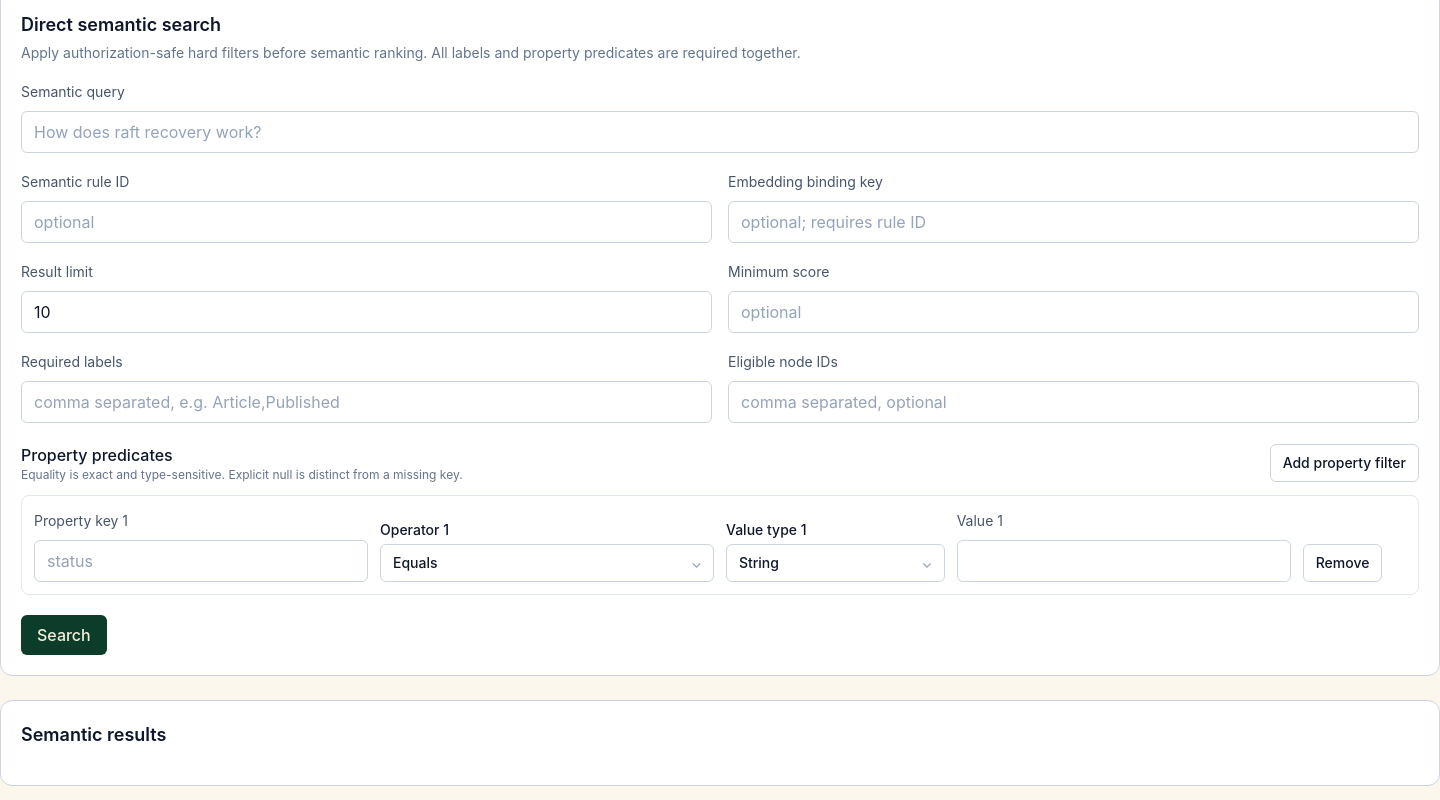
it: keeps results usable when provenance is absent
The width and height of the screenshot is (1440, 800).
Type "raft recovery" into the field labelled "Semantic query". click: (720,132)
box: left=21, top=111, right=1419, bottom=153
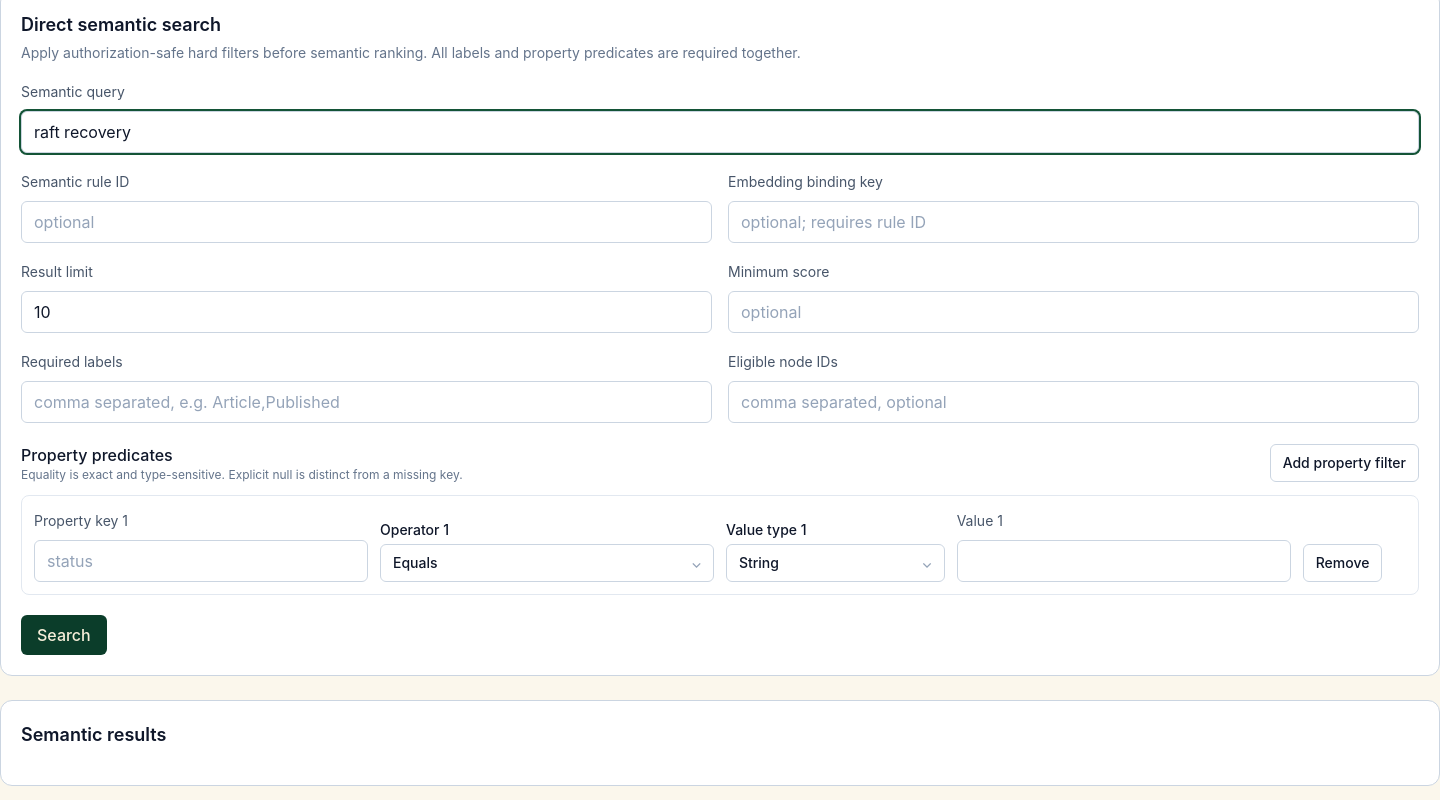
Click the button "Search". click: (64,635)
box: left=21, top=615, right=107, bottom=655
(page scrolled)
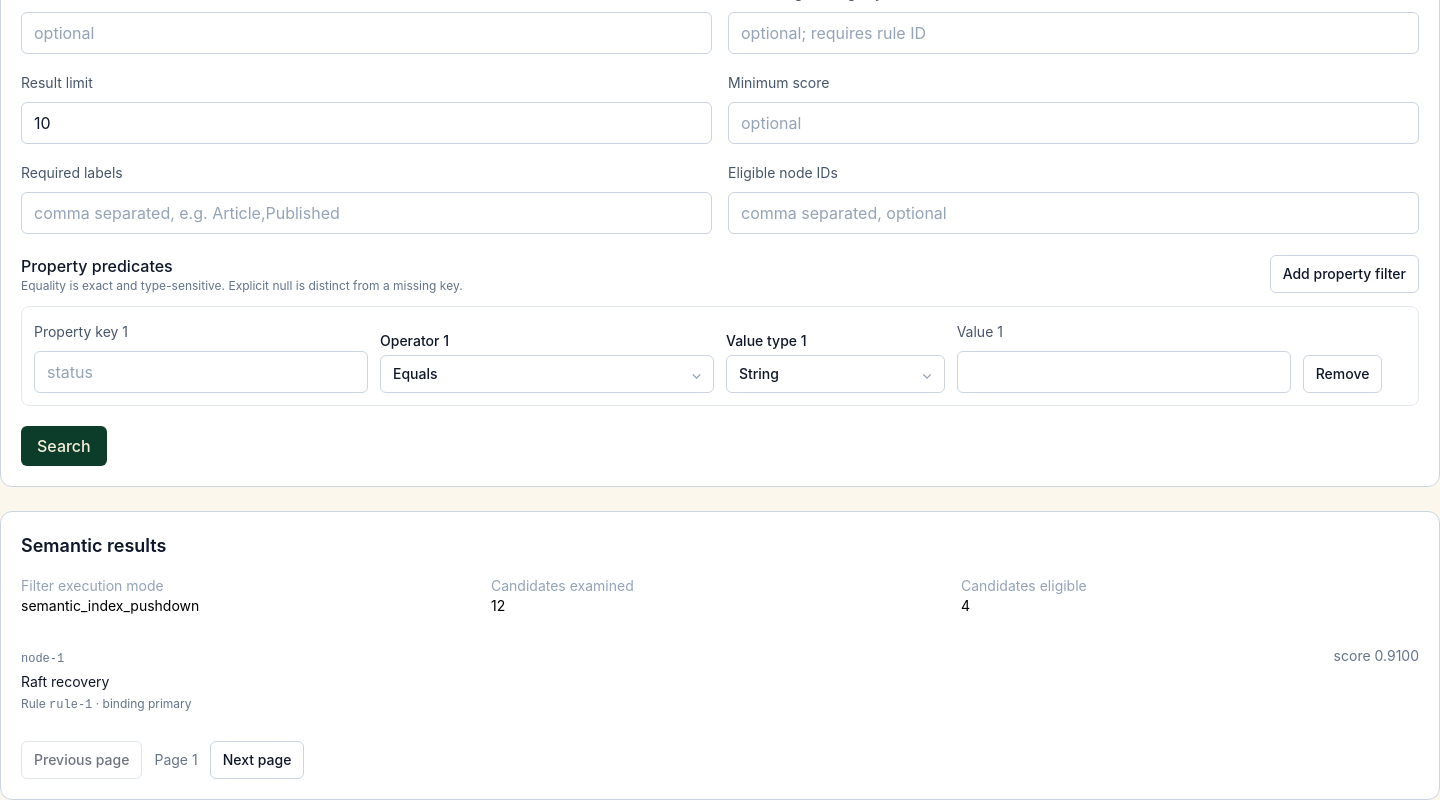
Check: the text "Raft recovery" is shown, box left=21, top=673, right=110, bottom=690
Check: the text "node-1" is shown, box left=21, top=652, right=64, bottom=666
